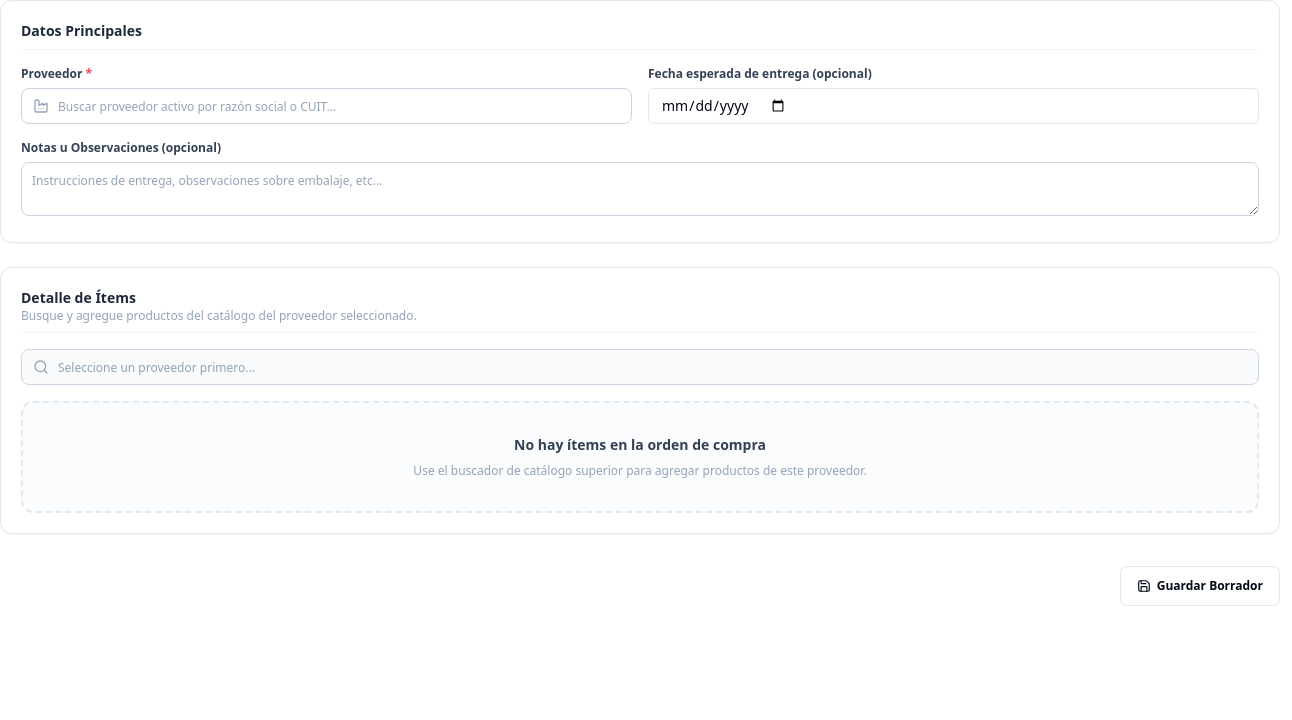
Test: PurchaseOrderForm › renders form and adds item from catalog
// Select supplier
Focus the dropdown with placeholder "Buscar proveedor activo por razón social o CUIT..." at (326, 106), box [21, 88, 632, 124]
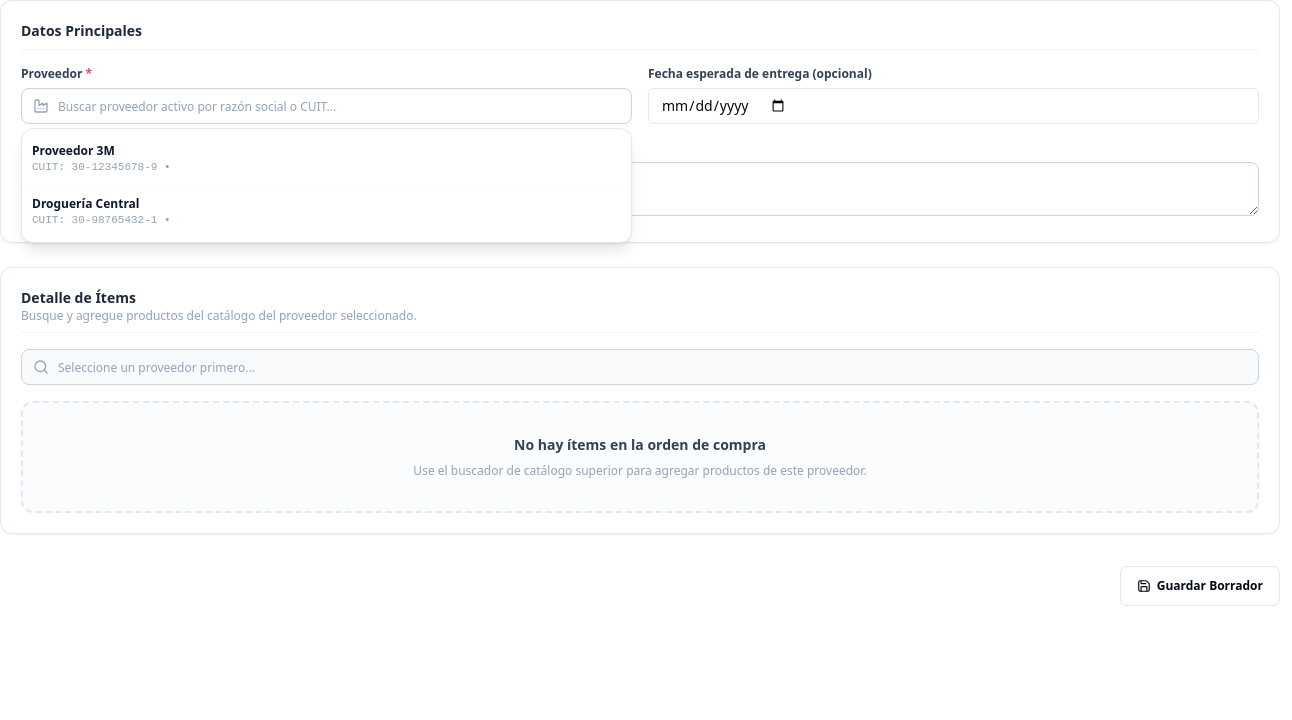
Check: the text "Proveedor 3M" is shown
Click the text "Proveedor 3M".
click(73, 150)  # box [32, 142, 115, 159]
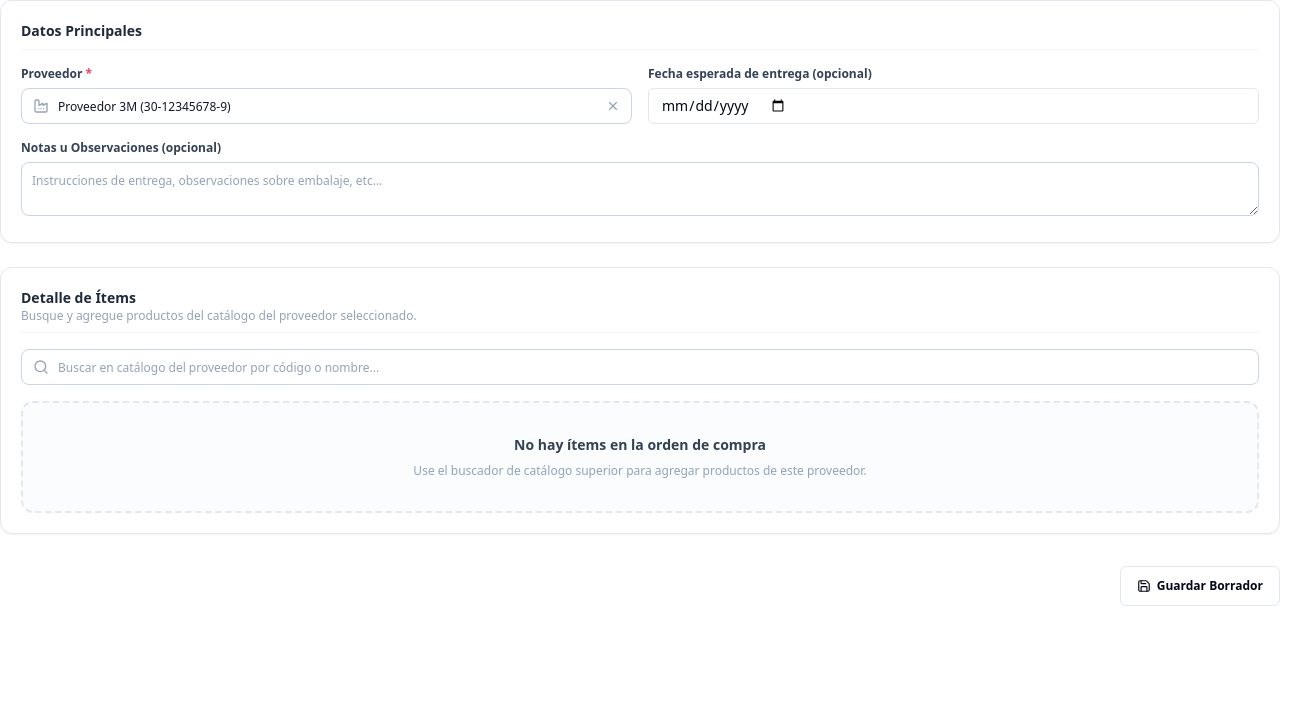
// Search & add product
Focus the dropdown with placeholder "Buscar en catálogo del proveedor por código o nombre..." at (640, 367), box [21, 349, 1259, 385]
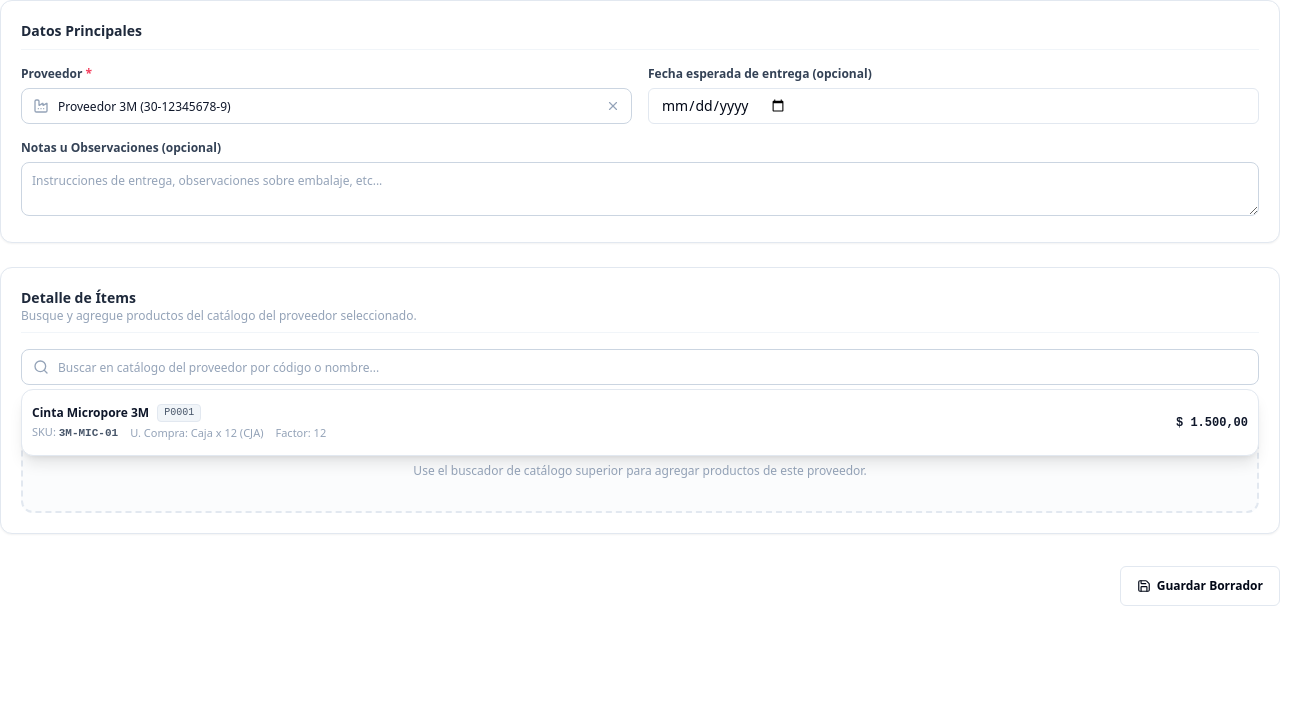
Check: the text "Cinta Micropore 3M" is shown
Click the text "Cinta Micropore 3M".
click(91, 413)  # box [32, 405, 149, 421]
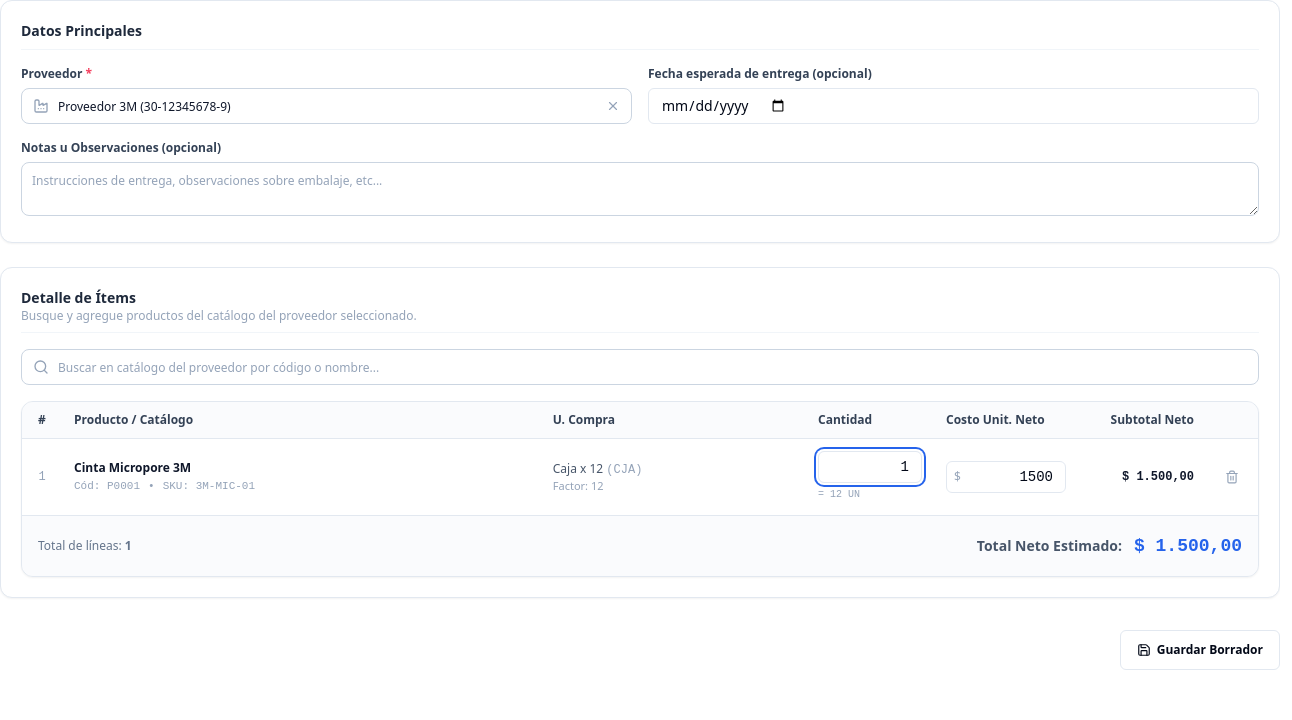
Check: the field showing "1500" is shown, box [946, 461, 1066, 493]
